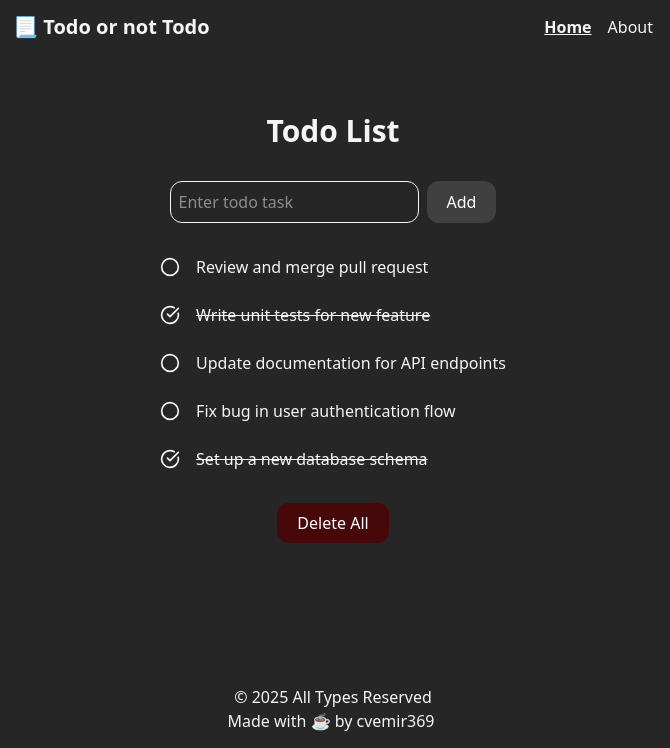
Scenario: todo items › should add a new todo item
Type "New Todo Item" into the field with placeholder "Enter todo task" at [295, 202], box top-left (170, 181), bottom-right (419, 223)
Then press Enter
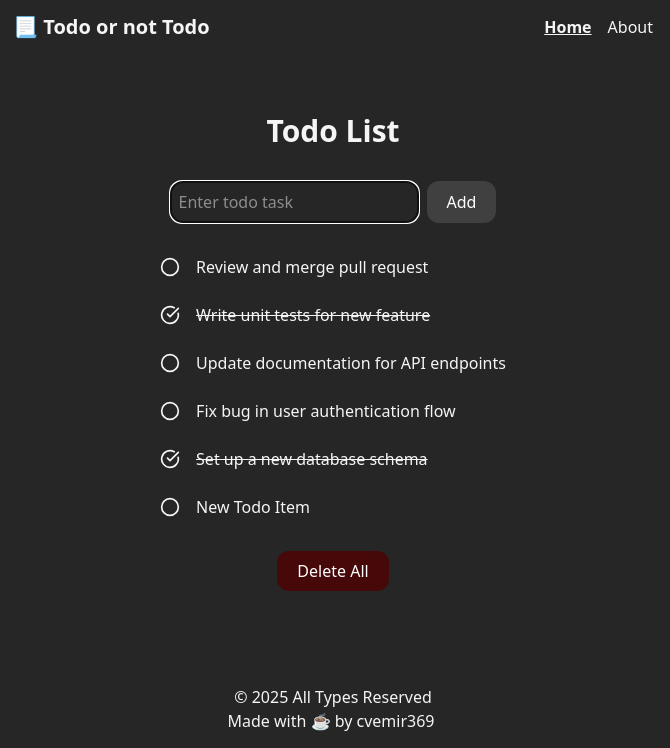
expect the list item "New Todo Item" is shown: met, box top-left (160, 496), bottom-right (310, 518)
